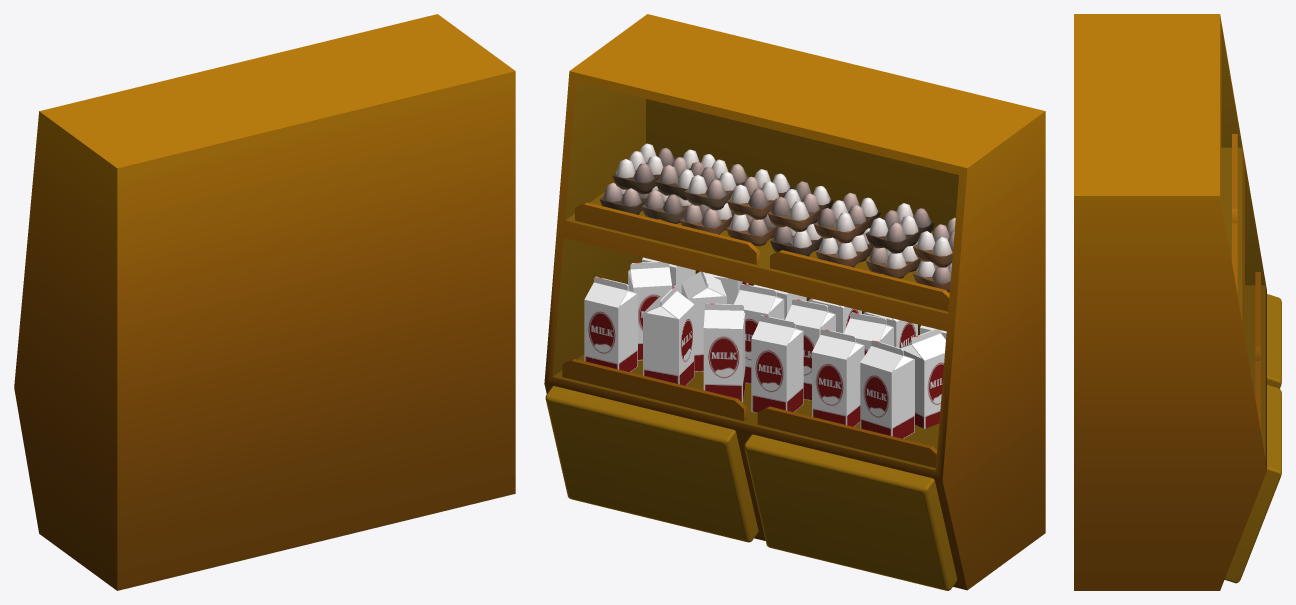
Rendered from Shelf_Short_Dairy.fbx.
The picture shows the model from 3 angles, left to right: view 1: azimuth 30°, elevation 25°; view 2: azimuth 150°, elevation 25°; view 3: azimuth 270°, elevation 25°; orthographic projection. The views are drawn at different scales.
Parts seen in each view (by area): view 1: Shelf_Short_Dairy; view 2: Shelf_Short_Dairy; view 3: Shelf_Short_Dairy.
Part boxes in pixels (x1=…): Shelf_Short_Dairy: x1=14, y1=14, x2=515, y2=590; Shelf_Short_Dairy: x1=544, y1=14, x2=1045, y2=590; Shelf_Short_Dairy: x1=1074, y1=14, x2=1281, y2=590.
Size of the model in its own units: 10.01 by 10.14 by 4.84.
